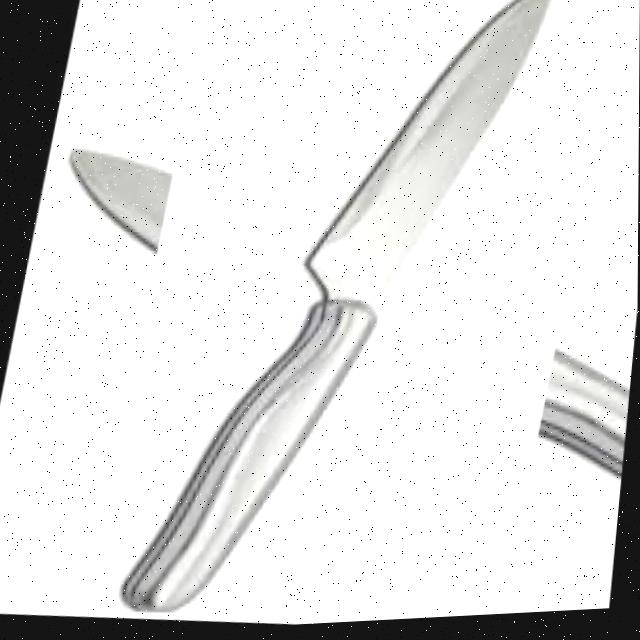knife: (119, 0, 556, 635)
